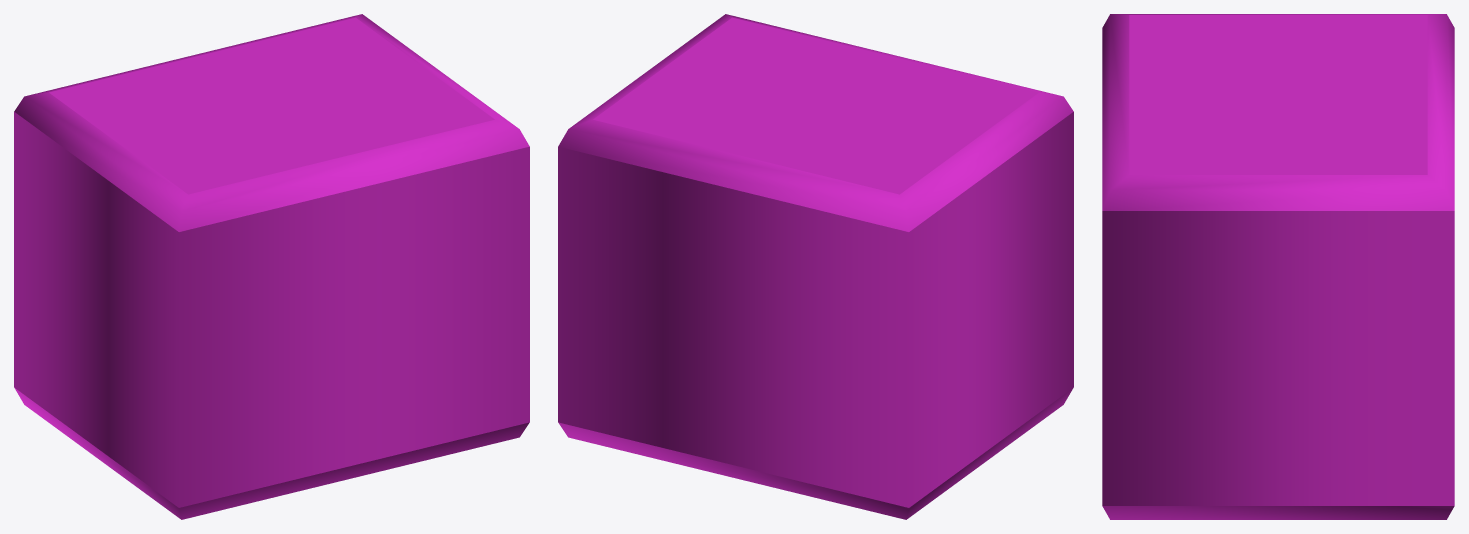
File: FullStop.fbx
3 views of the same model, side by side, from view 1: azimuth 30°, elevation 25°; view 2: azimuth 150°, elevation 25°; view 3: azimuth 270°, elevation 25° (orthographic). The views are drawn at different scales.
Parts seen in each view (by area): view 1: FullStop; view 2: FullStop; view 3: FullStop.
Boxes of the visible parts, box(x1,y1,x2,y2) form: FullStop: box(14, 14, 529, 519); FullStop: box(558, 14, 1073, 519); FullStop: box(1102, 14, 1454, 519).
Bounding box in the file's own units: 0.1598 × 0.14 × 0.13.
